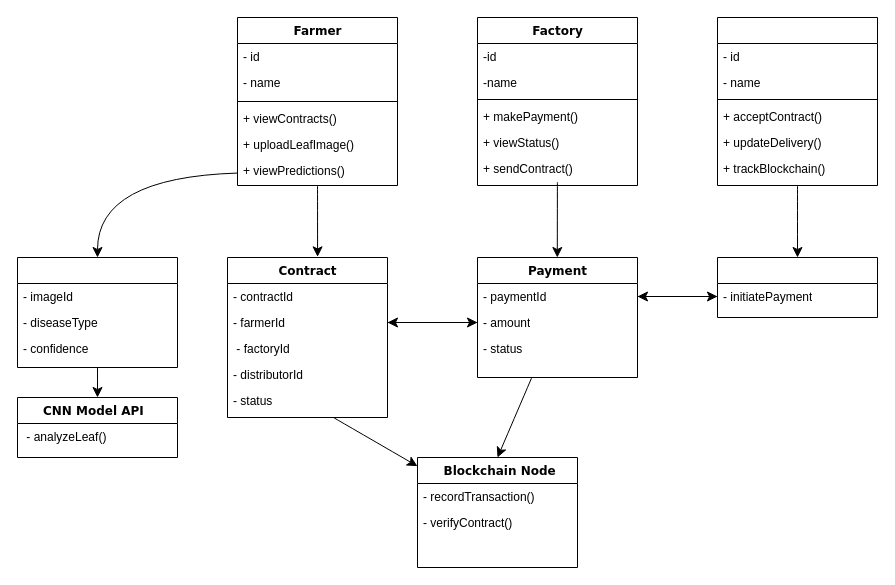
The diagram is 895 pixels wide and 585 high, and some of its shapes have lost their labels. The box of each missing label's shape, as (x1, y1, x2, y2) in pixels:
Distributor: (716, 16, 878, 186)
Prediction: (16, 256, 178, 368)
Razorpay API: (716, 256, 878, 318)
